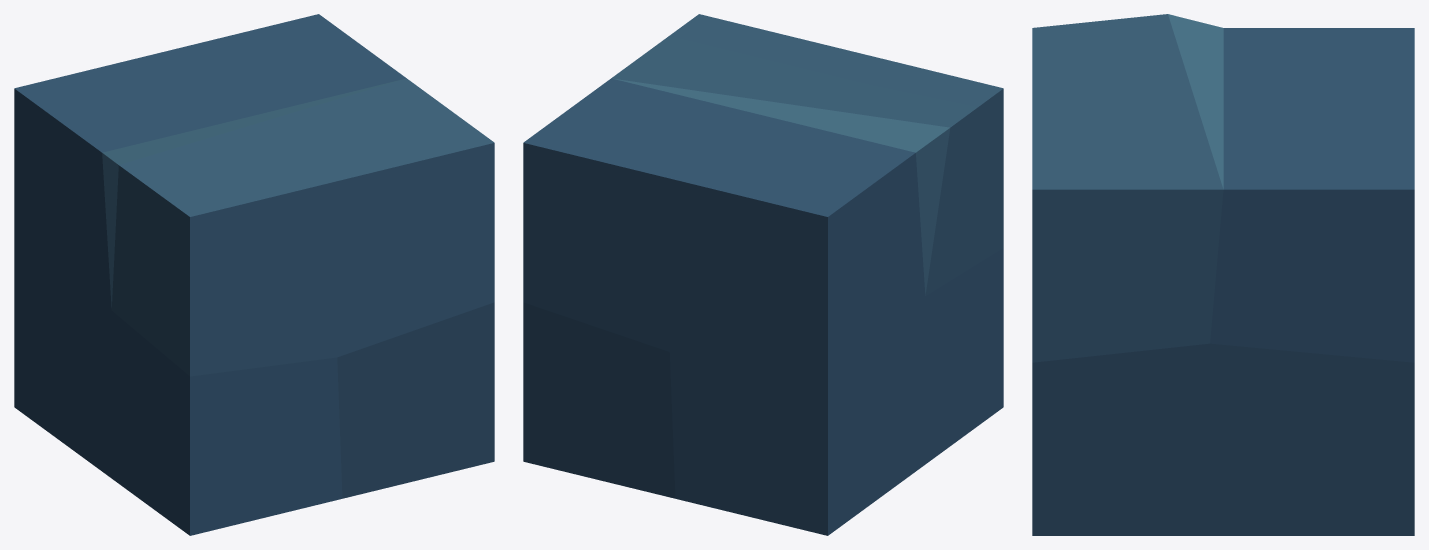
The model's file is backfill_1m.fbx.
3 views of the same model, side by side, from view 1: azimuth 30°, elevation 25°; view 2: azimuth 150°, elevation 25°; view 3: azimuth 270°, elevation 25° (orthographic). The views are drawn at different scales.
Parts seen in each view (by area): view 1: backfill_1m; view 2: backfill_1m; view 3: backfill_1m.
Part boxes in pixels (x1,y1,x2,y2): backfill_1m: (14, 14, 494, 535); backfill_1m: (523, 14, 1003, 535); backfill_1m: (1032, 14, 1414, 535).
Bounding box in the file's own units: 103 × 103 × 100.
